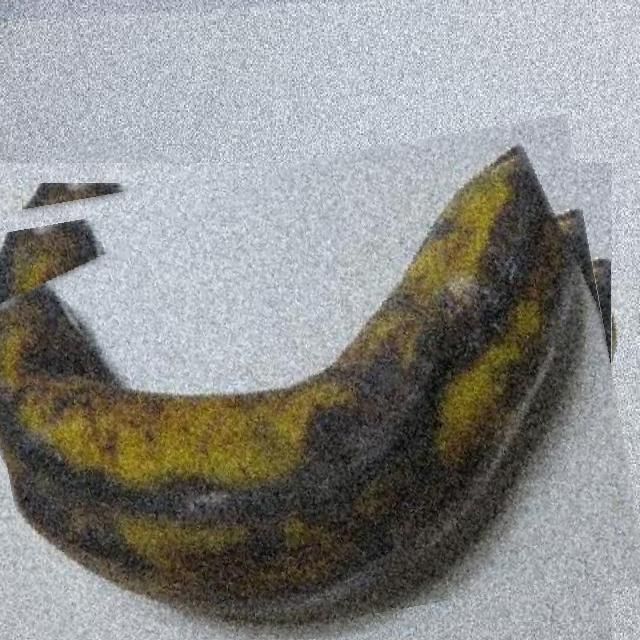Execivamente Madura: (0, 138, 630, 640)
